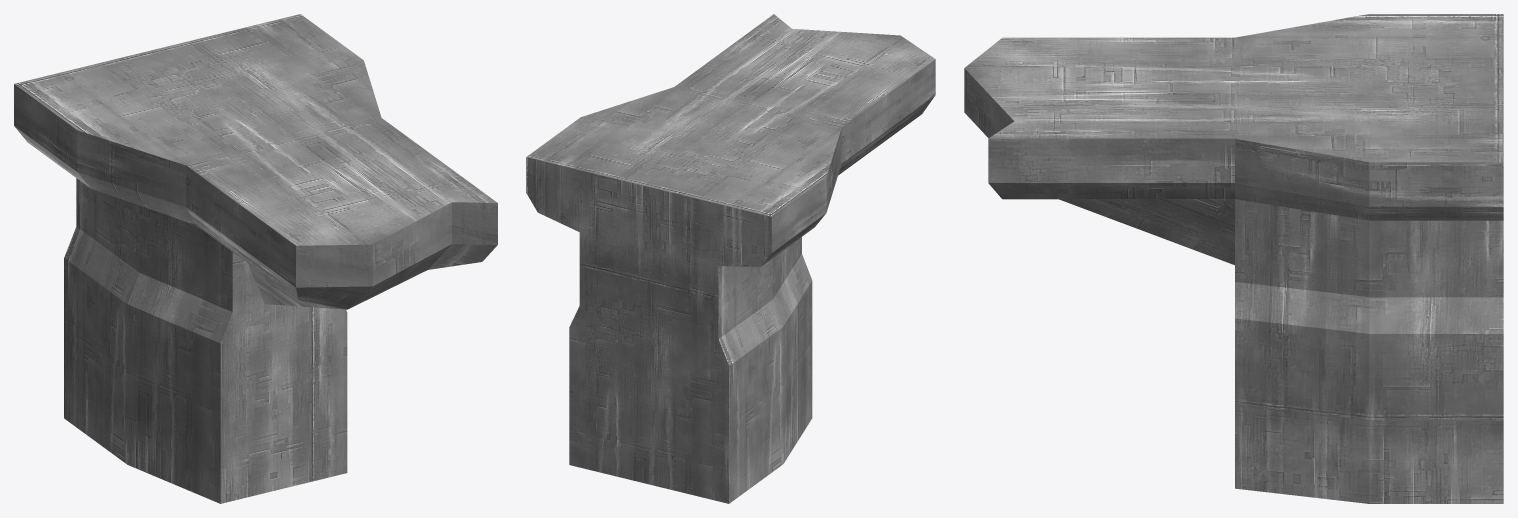
The model's file is Bridge_01_Broken.fbx.
The picture shows the model from 3 angles, left to right: view 1: azimuth 30°, elevation 25°; view 2: azimuth 150°, elevation 25°; view 3: azimuth 270°, elevation 25°; orthographic projection. The views are drawn at different scales.
Visible parts, largest first — view 1: Bridge_01_Broken; view 2: Bridge_01_Broken; view 3: Bridge_01_Broken.
Part boxes in pixels (x1,y1,x2,y2): Bridge_01_Broken: (14, 14, 497, 503); Bridge_01_Broken: (526, 14, 935, 503); Bridge_01_Broken: (964, 14, 1503, 503).
Bounding box in the file's own units: 1470 × 1700 × 2260.
